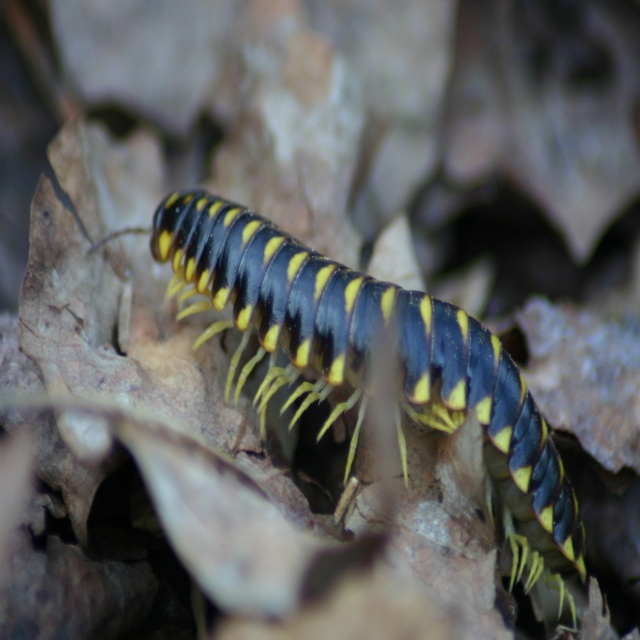Centipede: (87, 187, 592, 634)
